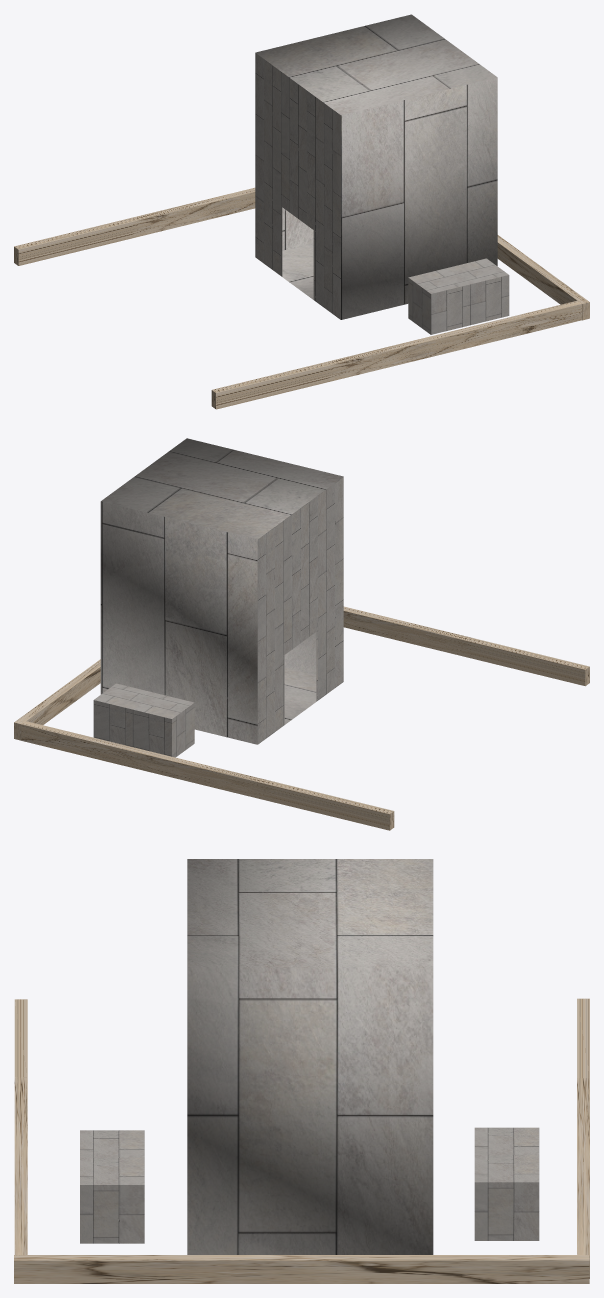
Rendered from graveyard.glb.
The picture shows the model from 3 angles, top to bottom: view 1: azimuth 30°, elevation 25°; view 2: azimuth 150°, elevation 25°; view 3: azimuth 270°, elevation 25°; orthographic projection. The views are drawn at different scales.
Parts seen in each view (by area): view 1: Small Crypt 1; view 2: Small Crypt 1; view 3: Small Crypt 1.
Part boxes in pixels (x1,y1,x2,y2): Small Crypt 1: (14, 14, 589, 409); Small Crypt 1: (14, 438, 589, 830); Small Crypt 1: (14, 859, 589, 1283).
Bounding box in the file's own units: 95.82 × 50.02 × 89.03.
Materials: 2 (2 with a texture image).
